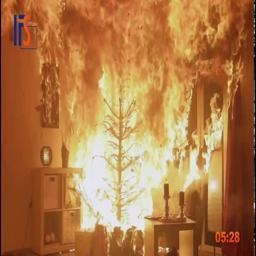fire: (1, 0, 255, 234)
